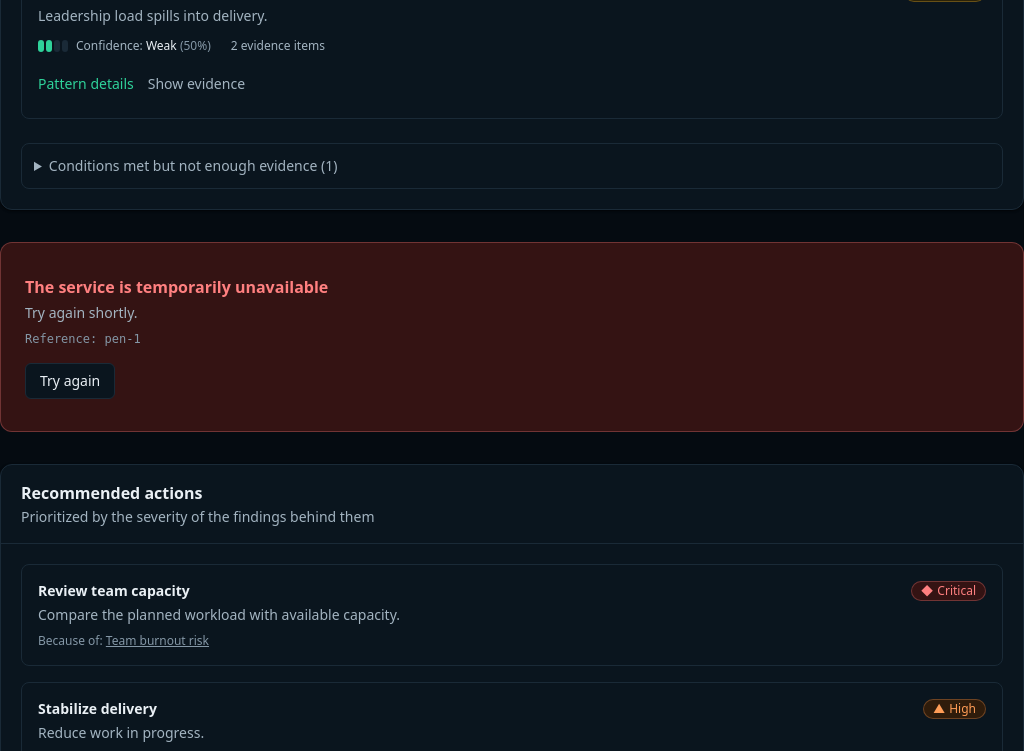
Test: DashboardPage › keeps working when one section fails and lets the user retry just that section
The width and height of the screenshot is (1024, 751).
(page scrolled)
Check: the message shows "temporarily unavailable", box [25,276,328,298]
Click the button "Try again". click: {"x": 70, "y": 381}
box: [25,363,115,399]
(page scrolled)
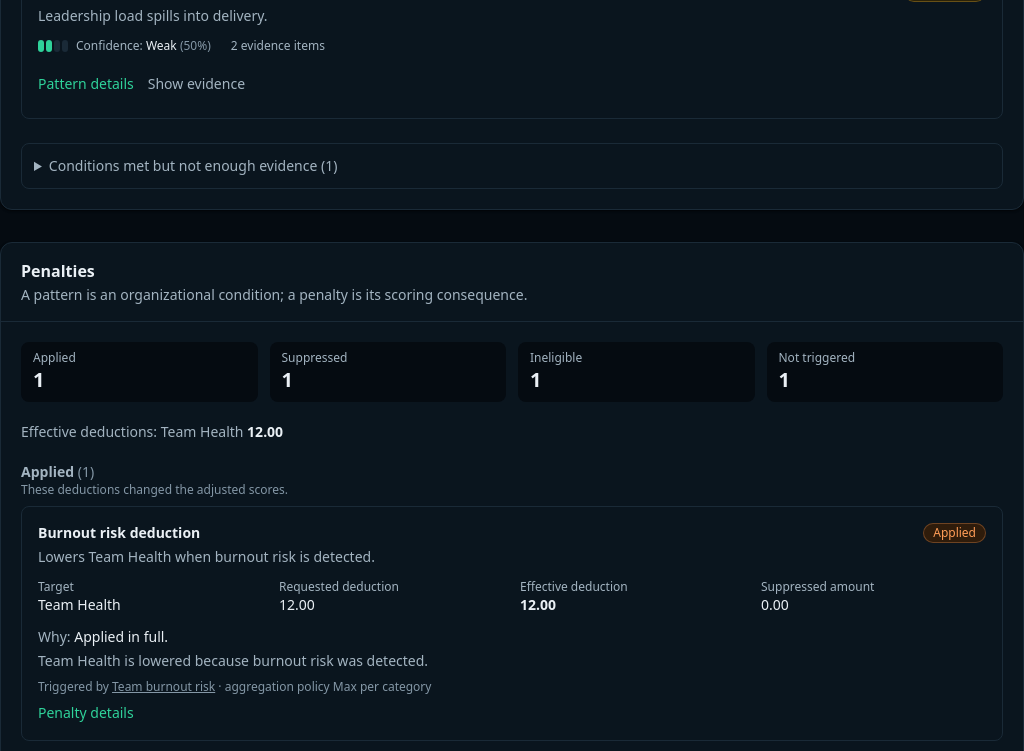
Check: the element "Burnout risk deduction" is shown, box [21,506,1003,741]
